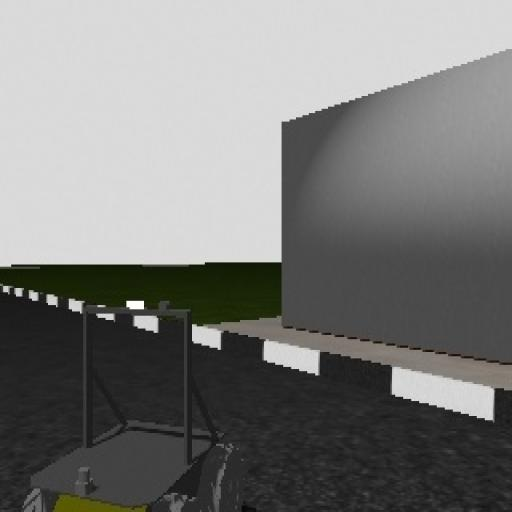huskya200: (14, 293, 261, 512)
